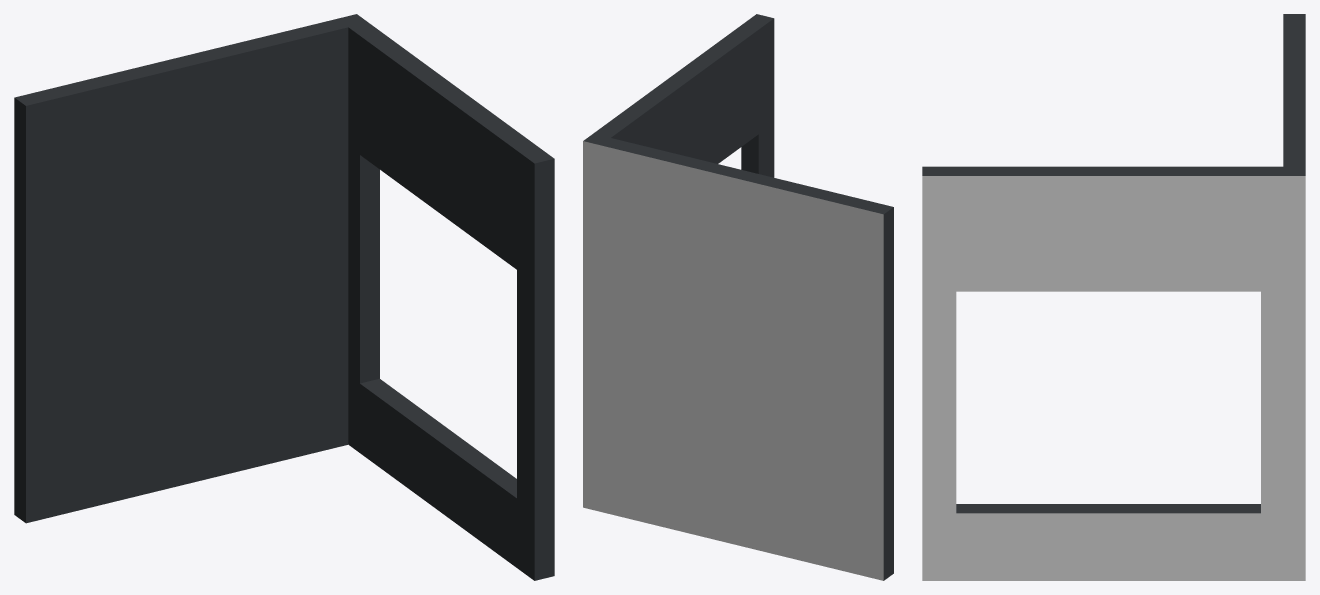
The model's file is Wall1_C4_14.fbx.
3 renders of one model, left to right at view 1: azimuth 30°, elevation 25°; view 2: azimuth 150°, elevation 25°; view 3: azimuth 270°, elevation 25°, orthographic. The views are drawn at different scales.
Visible parts, largest first — view 1: Wall1_C4_14; view 2: Wall1_C4_14; view 3: Wall1_C4_14.
Part boxes in pixels (left/top/right/bottom): Wall1_C4_14: left=14, top=14, right=554, bottom=580; Wall1_C4_14: left=583, top=14, right=893, bottom=580; Wall1_C4_14: left=922, top=14, right=1305, bottom=580.
Size of the model in its own units: 258 by 300 by 258.
